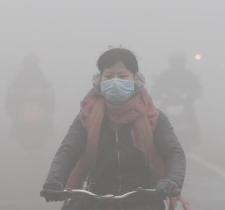person: (39, 43, 187, 210), (9, 54, 63, 156), (154, 50, 205, 156)
